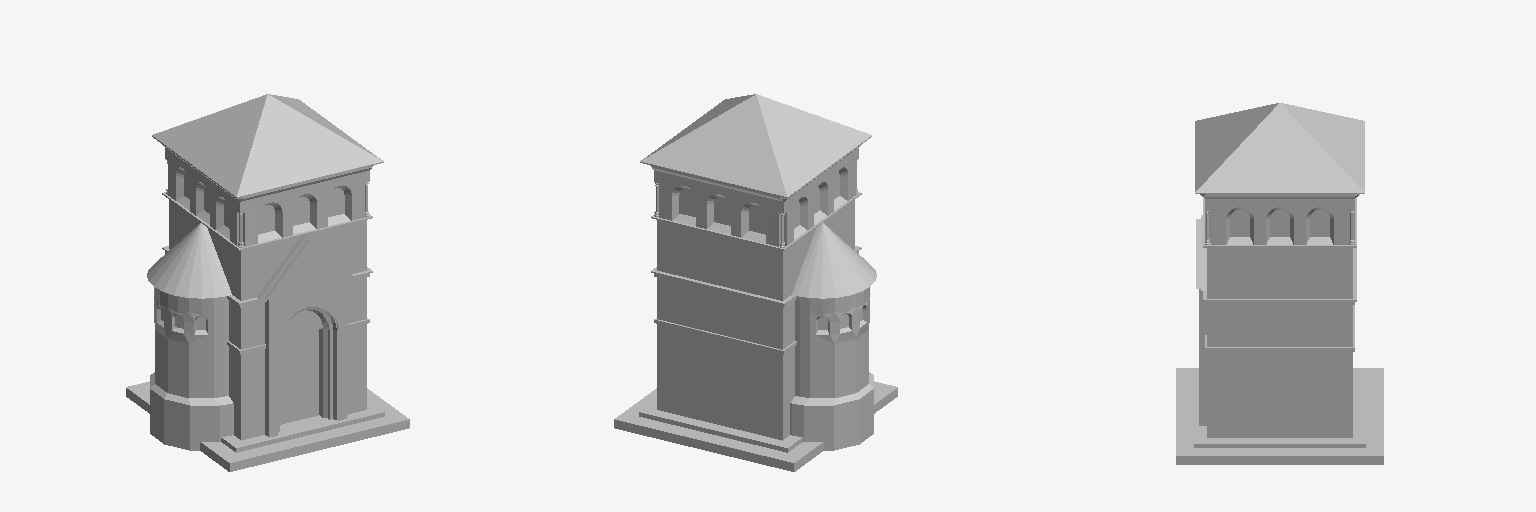
Rendered from chapel.obj.
3 views of the same model, side by side, from view 1: azimuth 30°, elevation 25°; view 2: azimuth 150°, elevation 25°; view 3: azimuth 270°, elevation 25° (orthographic).
Parts seen in each view (by area): view 1: chapel; view 2: chapel; view 3: chapel.
Part boxes in pixels (x1,y1,x2,y2): chapel: (126,94,409,471); chapel: (614,94,897,471); chapel: (1176,103,1383,464).
Bounding box in the file's own units: 4.71 × 7.03 × 4.16.